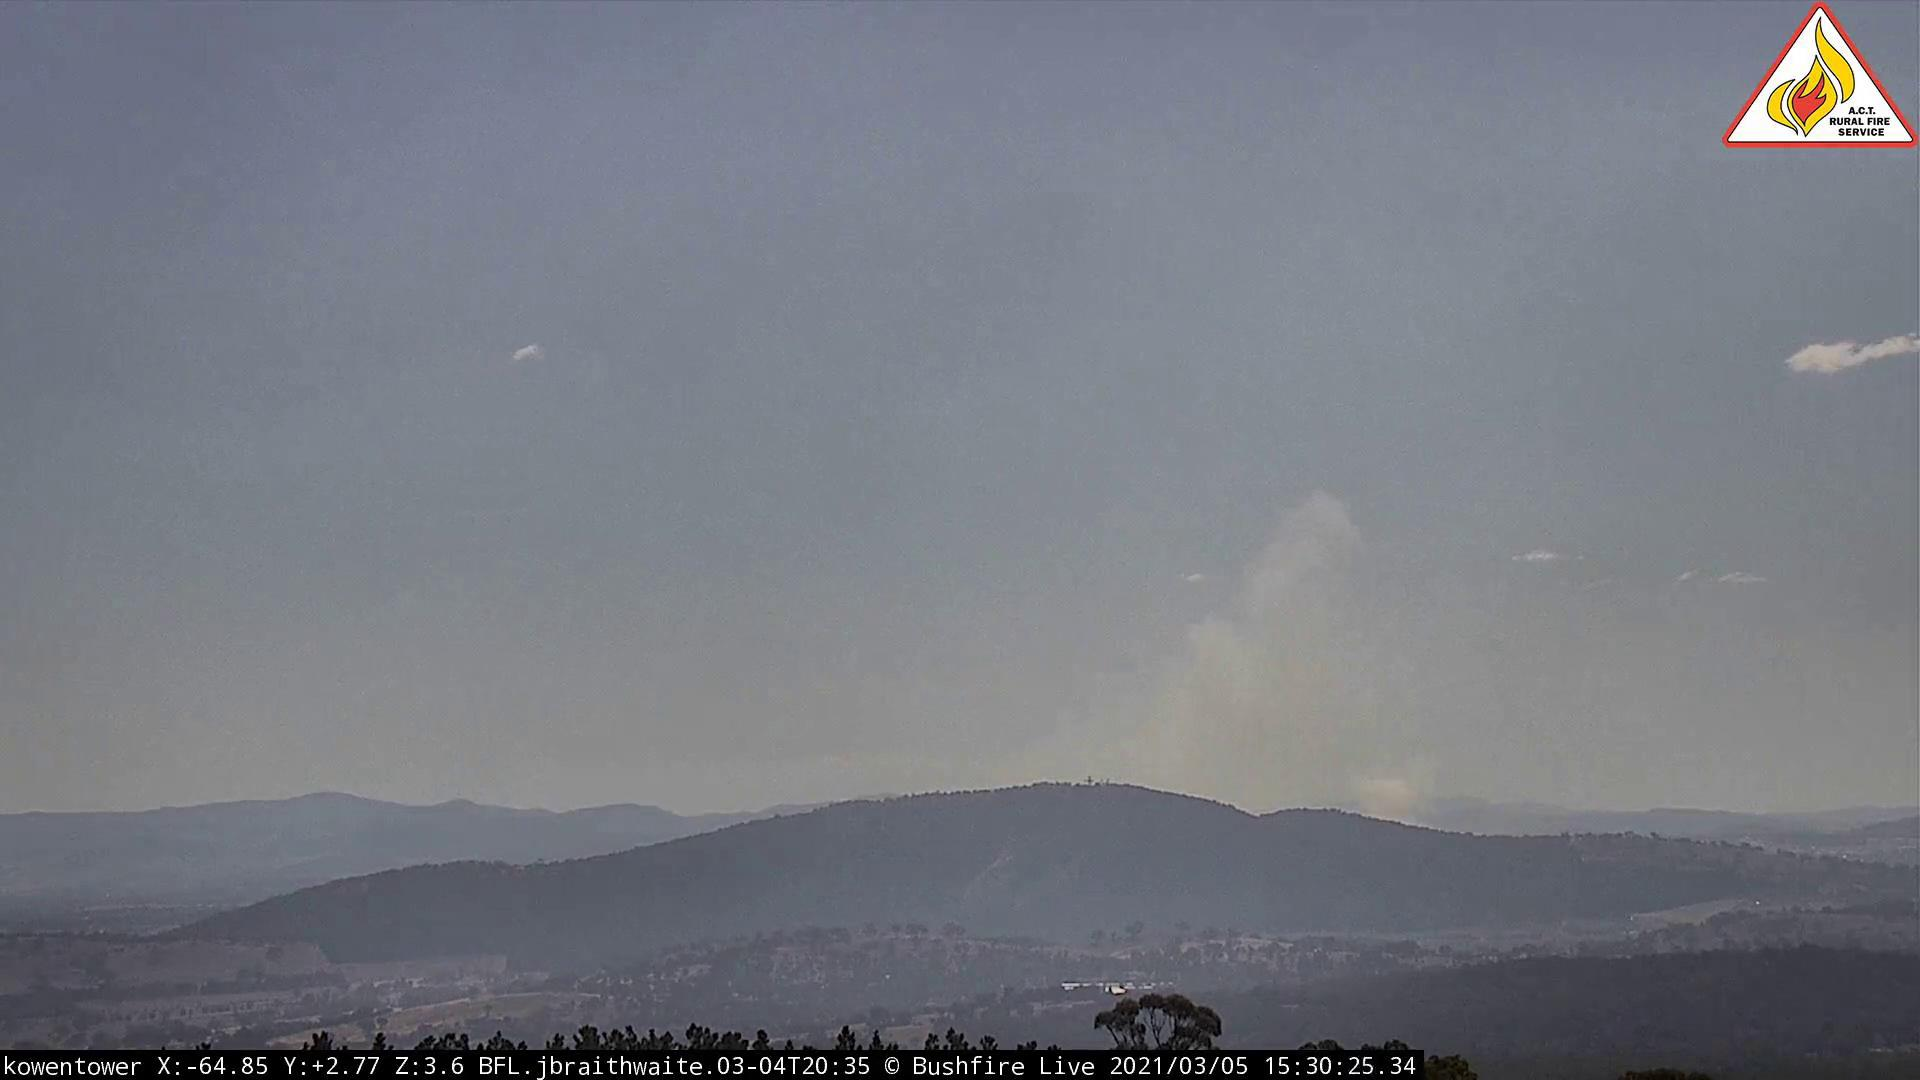instance_salient_object: (1022, 485, 1425, 829)
